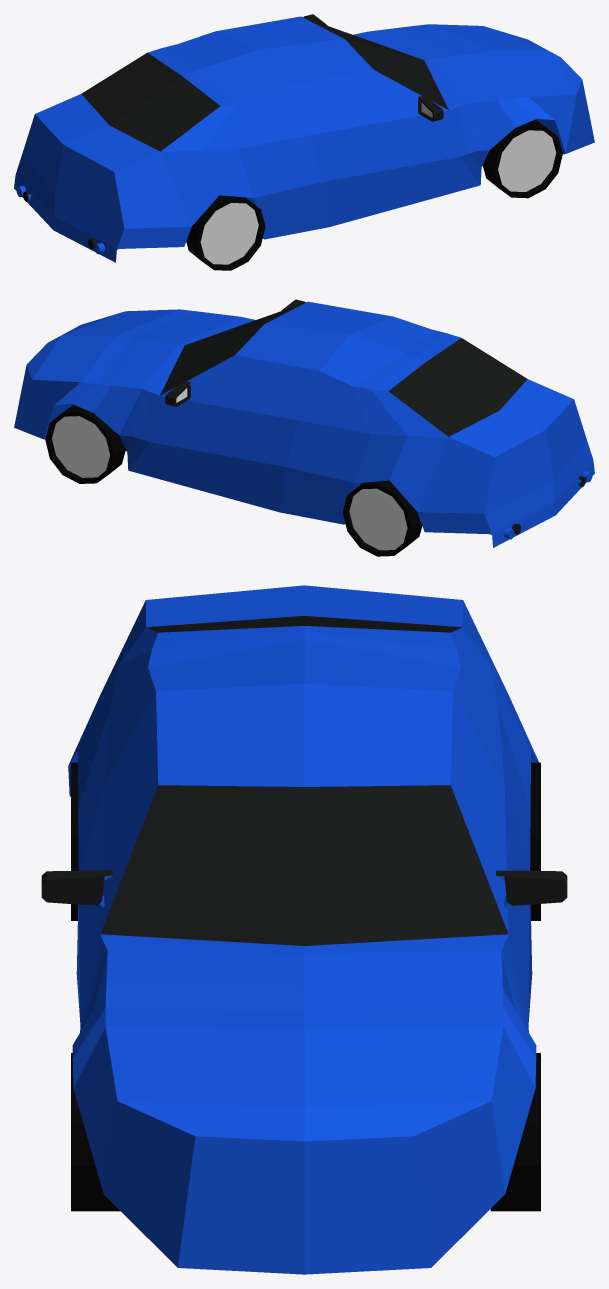
3 views of the same model, one above another, from view 1: azimuth 30°, elevation 25°; view 2: azimuth 150°, elevation 25°; view 3: azimuth 270°, elevation 25° (orthographic). The views are drawn at different scales.
Visible parts, largest first — view 1: Car_LP, Wheel; view 2: Car_LP, Wheel; view 3: Car_LP, Wheel.
Part boxes in pixels (bbox=[...]): Car_LP: bbox=[14, 14, 594, 262]; Wheel: bbox=[186, 119, 562, 270]; Car_LP: bbox=[14, 299, 594, 547]; Wheel: bbox=[45, 404, 422, 556]; Car_LP: bbox=[41, 585, 567, 1274]; Wheel: bbox=[71, 762, 540, 1211].
Size of the model in its own units: 4.99 by 1.45 by 2.19.
